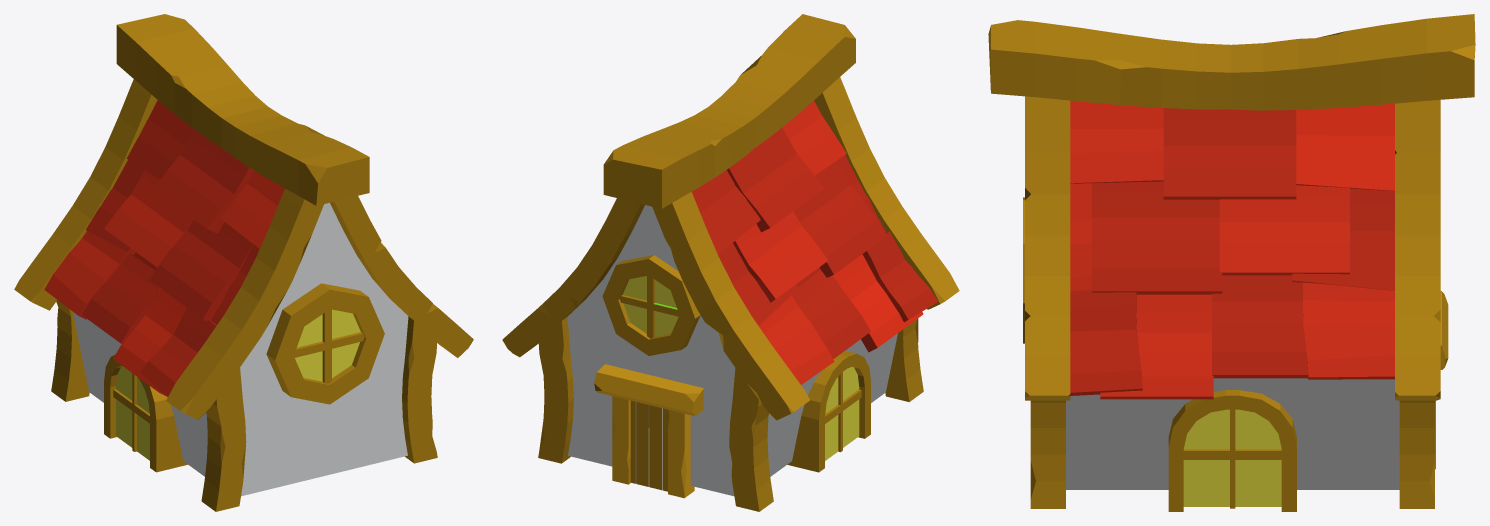
Rendered from cartoon_house.obj.
The picture shows the model from 3 angles, left to right: view 1: azimuth 30°, elevation 25°; view 2: azimuth 150°, elevation 25°; view 3: azimuth 270°, elevation 25°; orthographic projection. The views are drawn at different scales.
Visible parts, largest first — view 1: cartoon_house_Cube.005; view 2: cartoon_house_Cube.005; view 3: cartoon_house_Cube.005.
Boxes of the visible parts, bbox=[...] form: cartoon_house_Cube.005: bbox=[14, 14, 473, 511]; cartoon_house_Cube.005: bbox=[502, 14, 959, 511]; cartoon_house_Cube.005: bbox=[988, 14, 1475, 511].
Size of the model in its own units: 3.13 by 3.46 by 3.67.
1 material, 1 textured.
